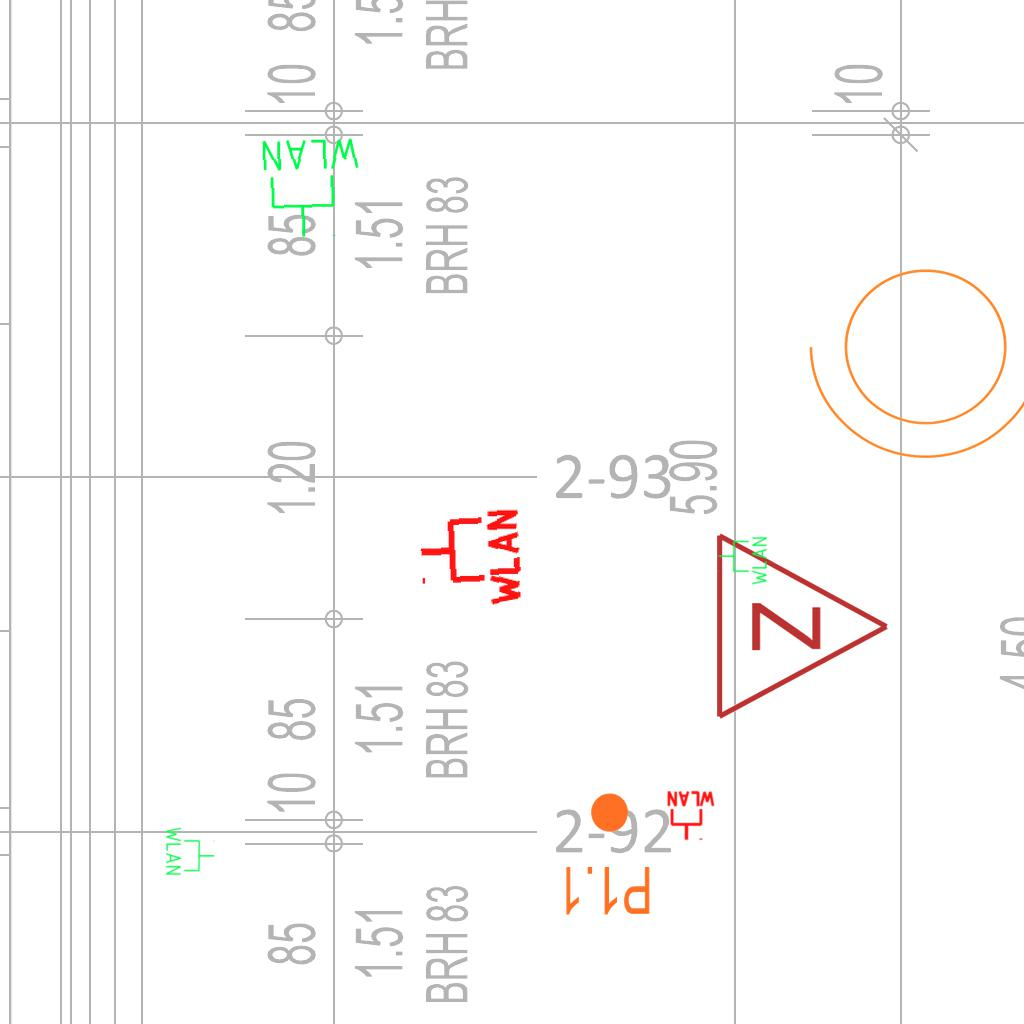Downlight_LED_Einbauleuchten_Flur: (560, 790, 653, 918)
Scheinwerfer_fuer_Alarmbeleuchtung: (800, 244, 1024, 469)
WLAN: (414, 504, 525, 614), (257, 133, 367, 242), (665, 790, 717, 842), (164, 825, 216, 877), (717, 535, 769, 587)
Zimmersignalleuchte: (702, 526, 902, 722)
